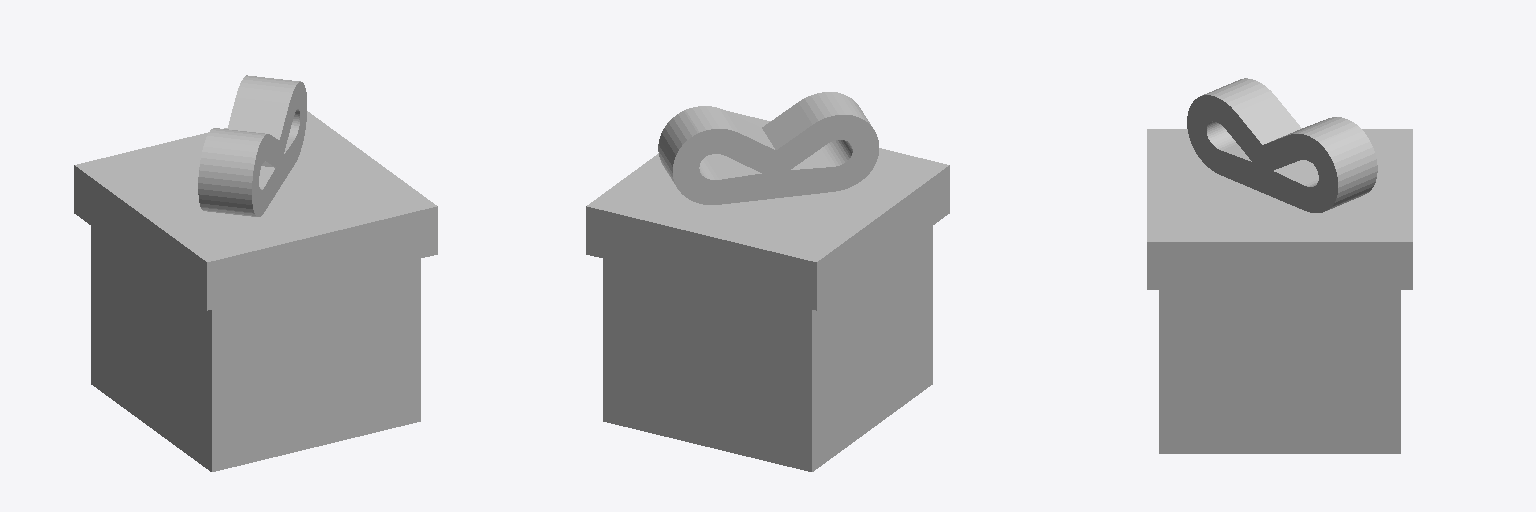
The model's file is present.obj.
3 views of the same model, side by side, from view 1: azimuth 30°, elevation 25°; view 2: azimuth 150°, elevation 25°; view 3: azimuth 270°, elevation 25° (orthographic).
Visible parts, largest first — view 1: present, lid; view 2: present, lid; view 3: lid, present.
Boxes of the visible parts, box(x1,y1,x2,y2) form: present: box(91, 226, 420, 471); lid: box(74, 75, 437, 310); present: box(603, 226, 932, 471); lid: box(586, 92, 949, 310); lid: box(1147, 78, 1412, 289); present: box(1159, 290, 1400, 453).
Size of the model in its own units: 0.3727 by 0.4535 by 0.3727.